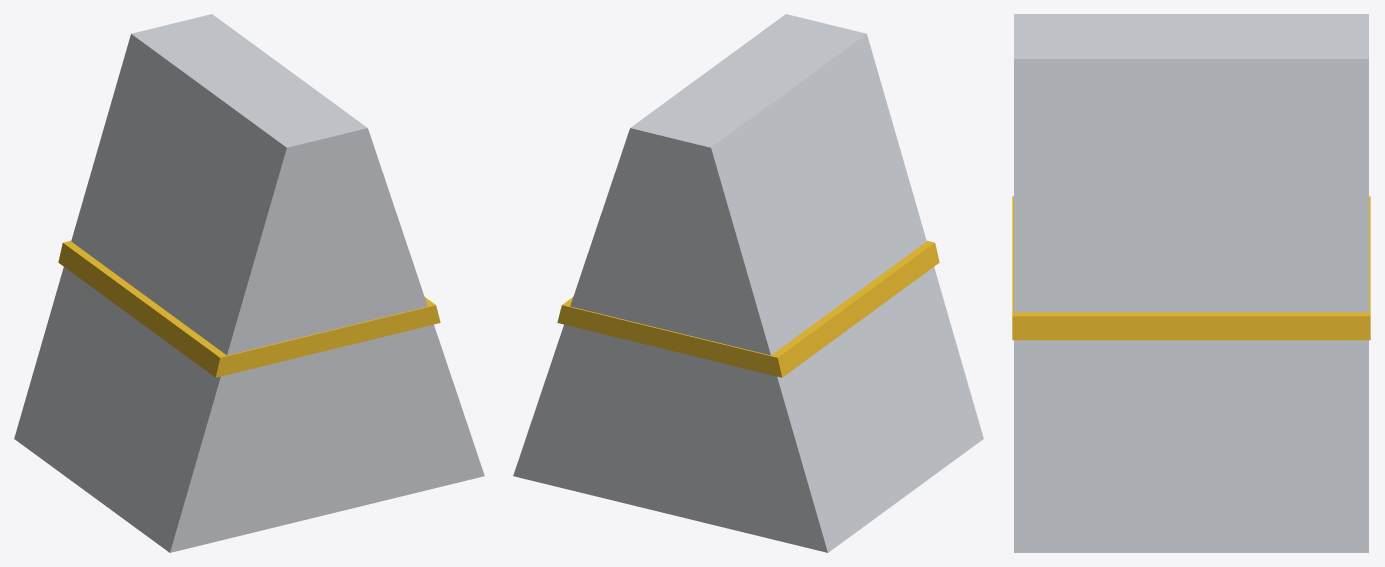
The model's file is temple.glb.
3 views of the same model, side by side, from view 1: azimuth 30°, elevation 25°; view 2: azimuth 150°, elevation 25°; view 3: azimuth 270°, elevation 25° (orthographic). The views are drawn at different scales.
Visible parts, largest first — view 1: temple; view 2: temple; view 3: temple.
Boxes of the visible parts, x1,y1,x2,y2 form: temple: (14, 14, 484, 552); temple: (513, 14, 983, 552); temple: (1012, 14, 1370, 552).
Bounding box in the file's own units: 1.4 × 1.6 × 1.21.
